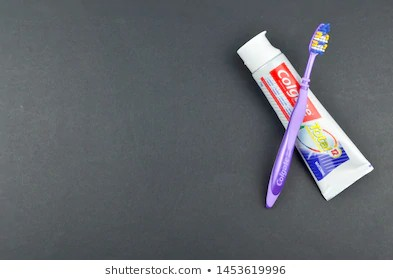toothbrush: (256, 19, 341, 208)
